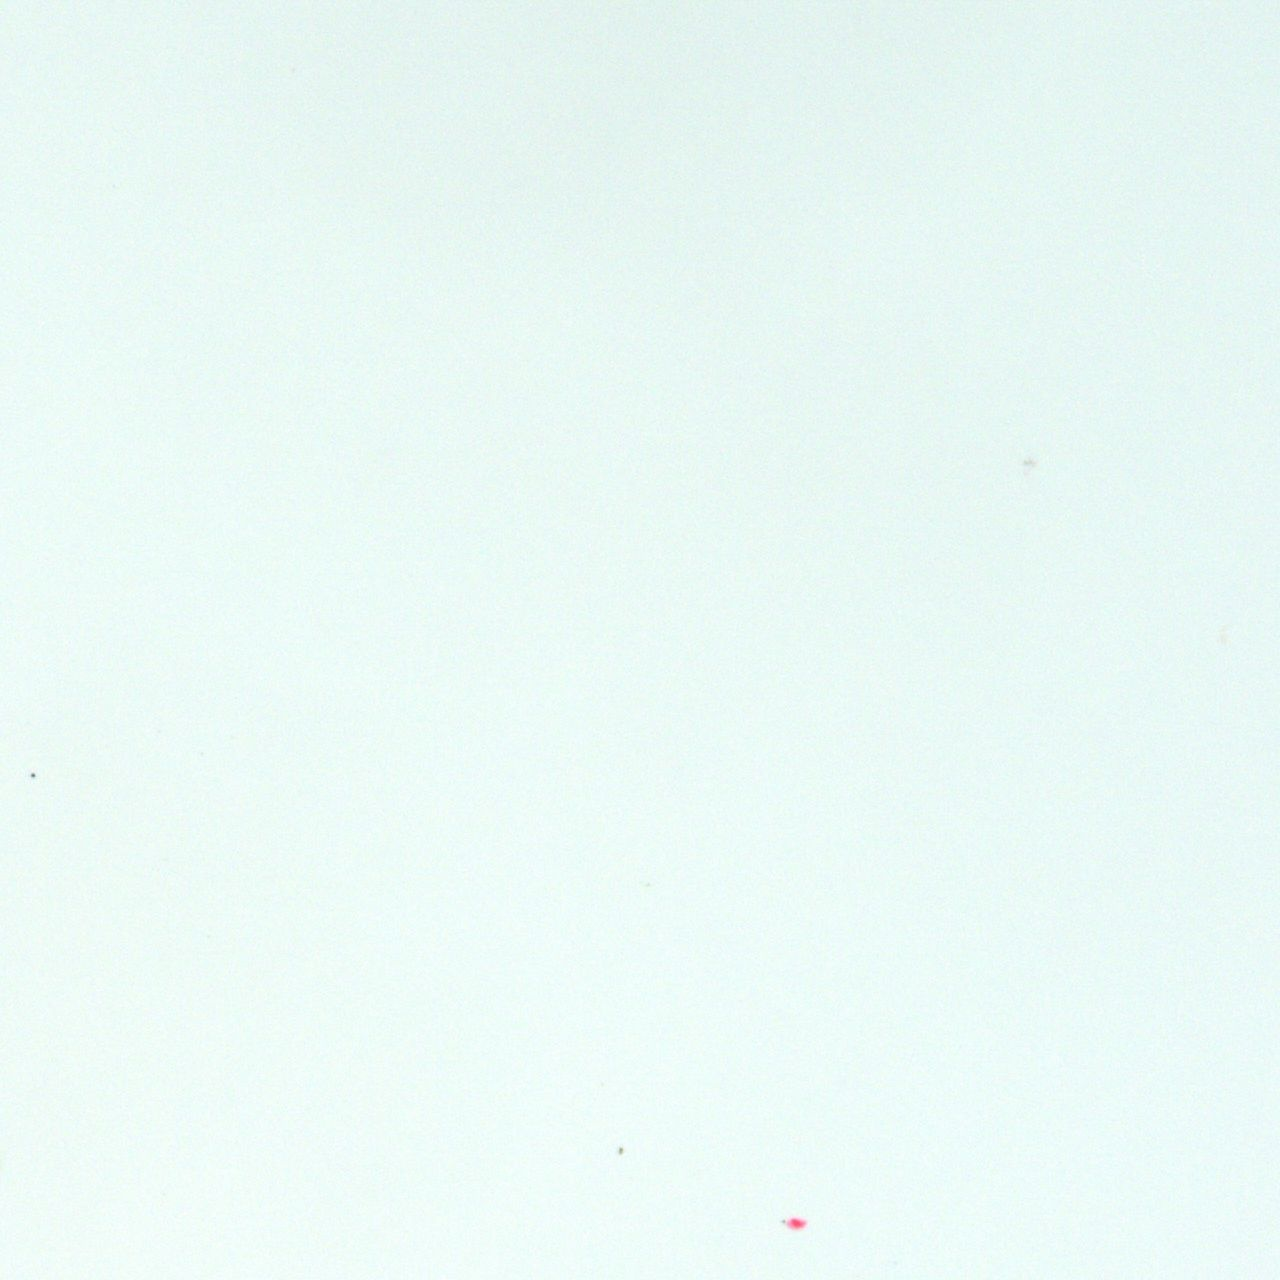dust: (1021, 456, 1037, 472), (618, 1146, 622, 1153), (30, 772, 35, 777)
